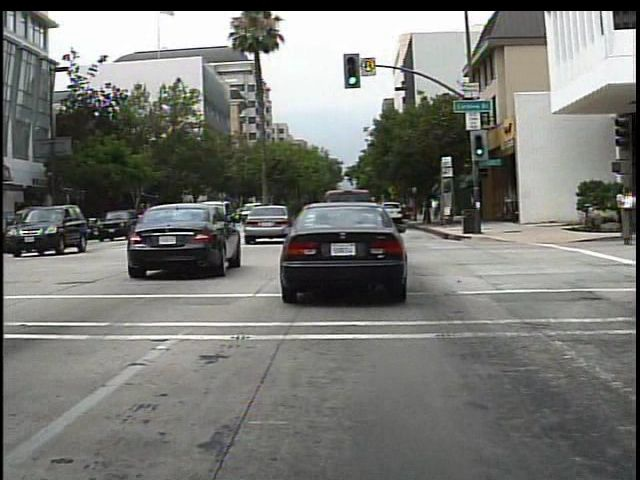person: (612, 181, 637, 249), (425, 191, 443, 224)
